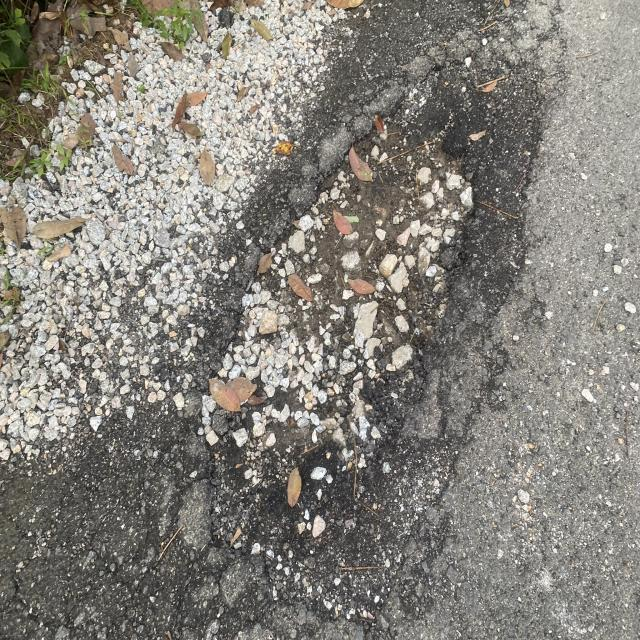Pothole: (180, 49, 624, 576)
